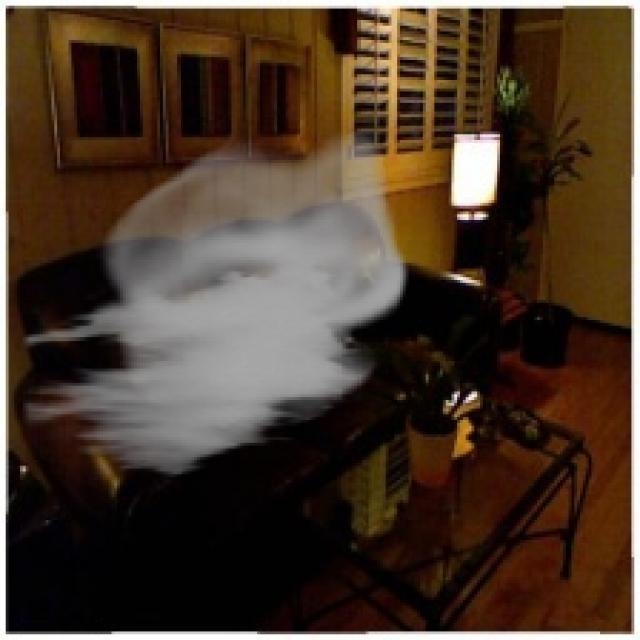Smoke: (22, 131, 408, 480)
